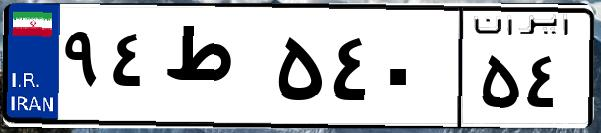0: (385, 28, 445, 110)
4: (330, 28, 385, 110), (525, 38, 570, 115), (110, 28, 158, 98)
5: (270, 28, 330, 110), (475, 38, 525, 113)
9: (57, 26, 110, 100)
ط: (158, 20, 270, 120)
